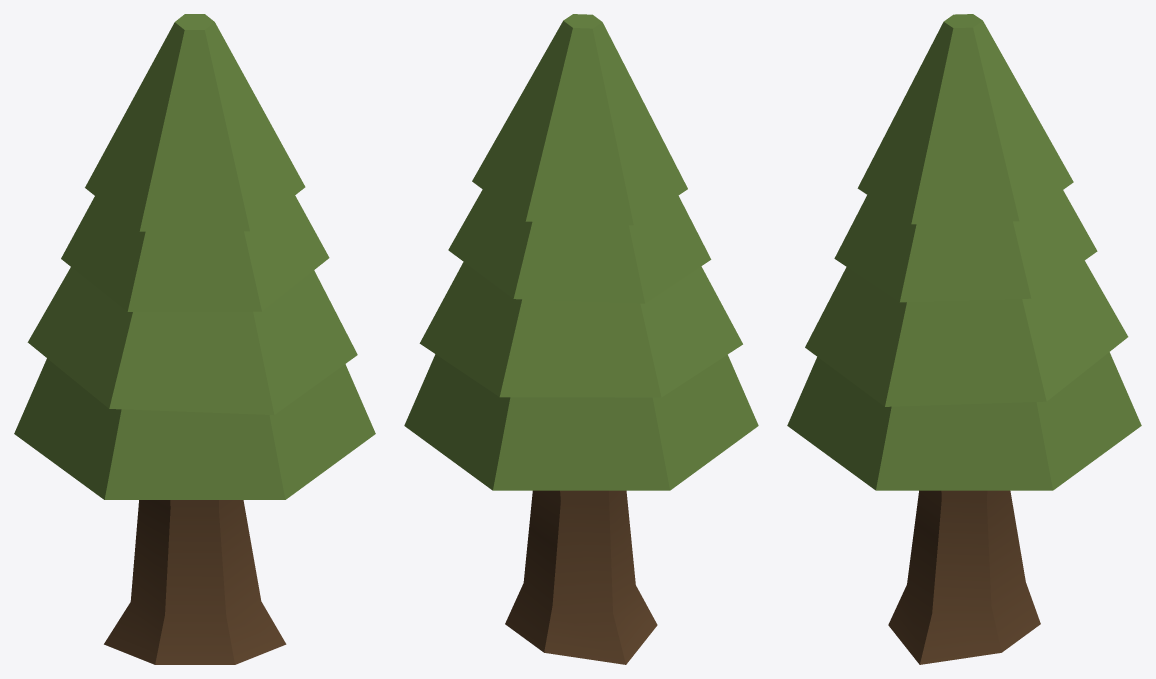
File: Pohon2.fbx
The picture shows the model from 3 angles, left to right: view 1: azimuth 30°, elevation 25°; view 2: azimuth 150°, elevation 25°; view 3: azimuth 270°, elevation 25°; orthographic projection. The views are drawn at different scales.
Visible parts, largest first — view 1: tree_2c; view 2: tree_2c; view 3: tree_2c.
Boxes of the visible parts, box(x1,y1,x2,y2) form: tree_2c: box(14, 14, 375, 664); tree_2c: box(404, 14, 758, 664); tree_2c: box(787, 14, 1141, 664).
Size of the model in its own units: 274 by 602 by 316.
